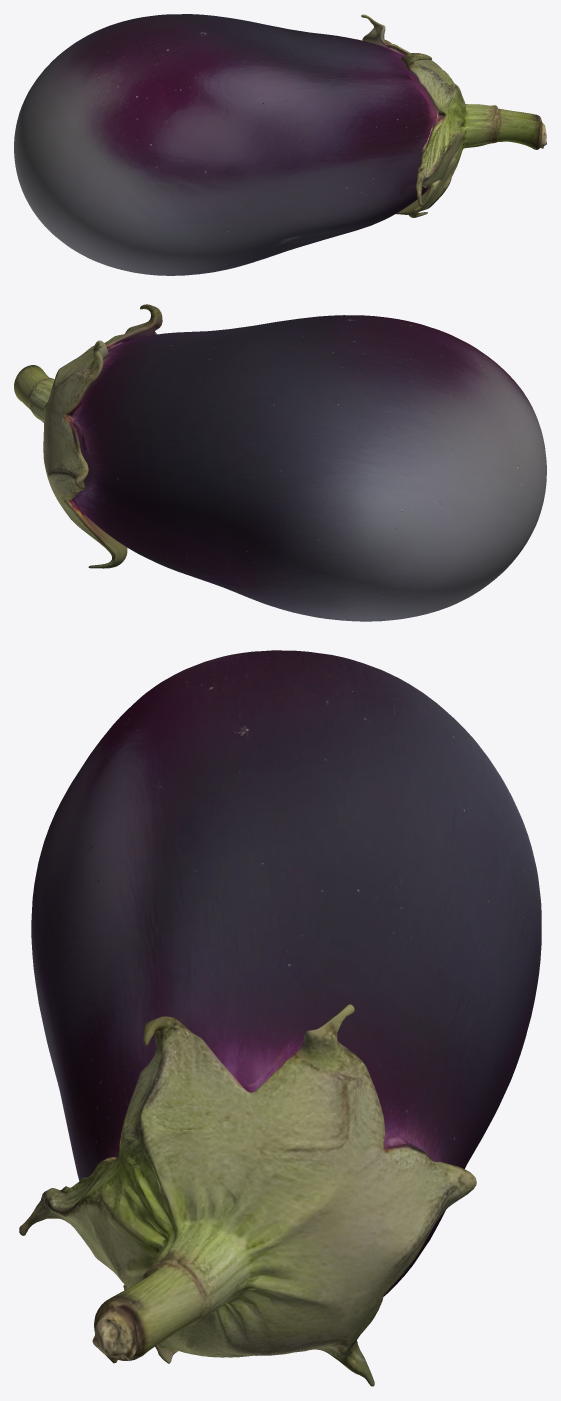
Rendered from red_onions.glb.
3 views of the same model, one above another, from view 1: azimuth 30°, elevation 25°; view 2: azimuth 150°, elevation 25°; view 3: azimuth 270°, elevation 25° (orthographic). The views are drawn at different scales.
Parts seen in each view (by area): view 1: node_0; view 2: node_0; view 3: node_0.
Boxes of the visible parts, x1=… form: node_0: x1=14, y1=14, x2=546, y2=275; node_0: x1=14, y1=304, x2=546, y2=621; node_0: x1=19, y1=650, x2=541, y2=1386.
Size of the model in its own units: 1.14 by 0.5493 by 0.5419.
Materials: 1 (1 with a texture image).
